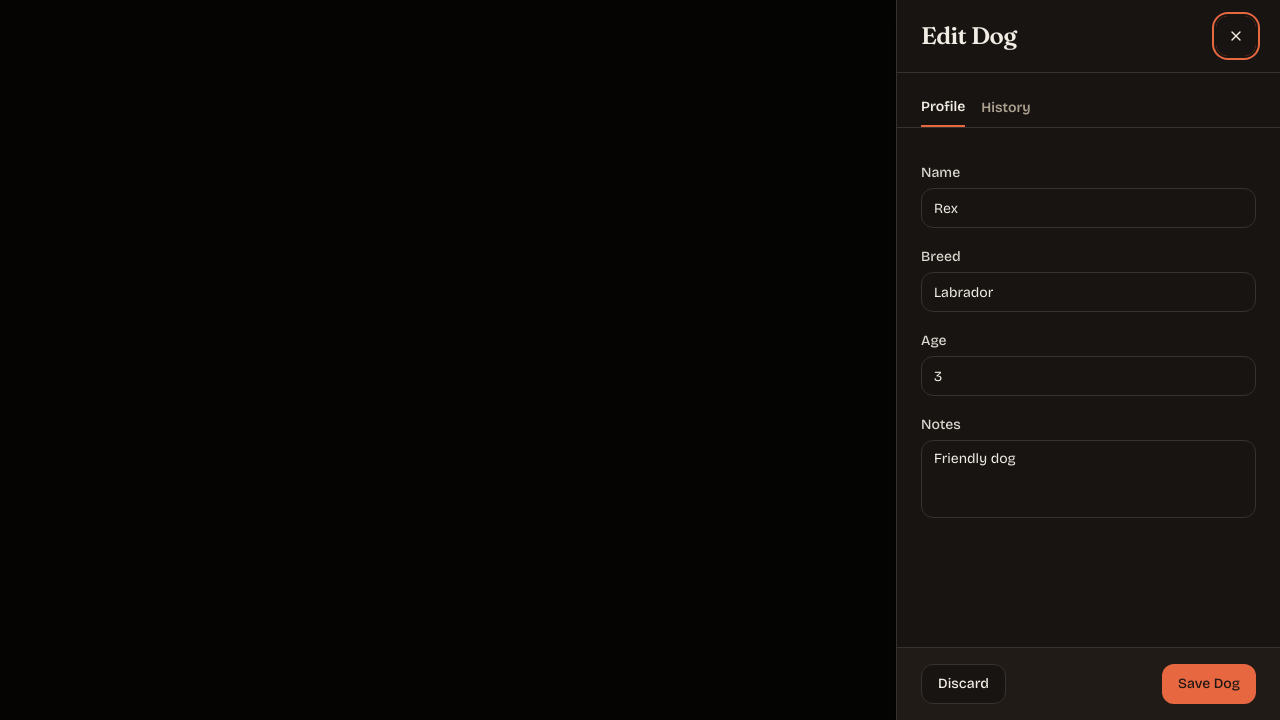
Test: DogPanel - History tab › clicking History tab shows "Log a walk for [name]" button
The width and height of the screenshot is (1280, 720).
Click the tab "History" at (1006, 108), box [981,89,1031,127]
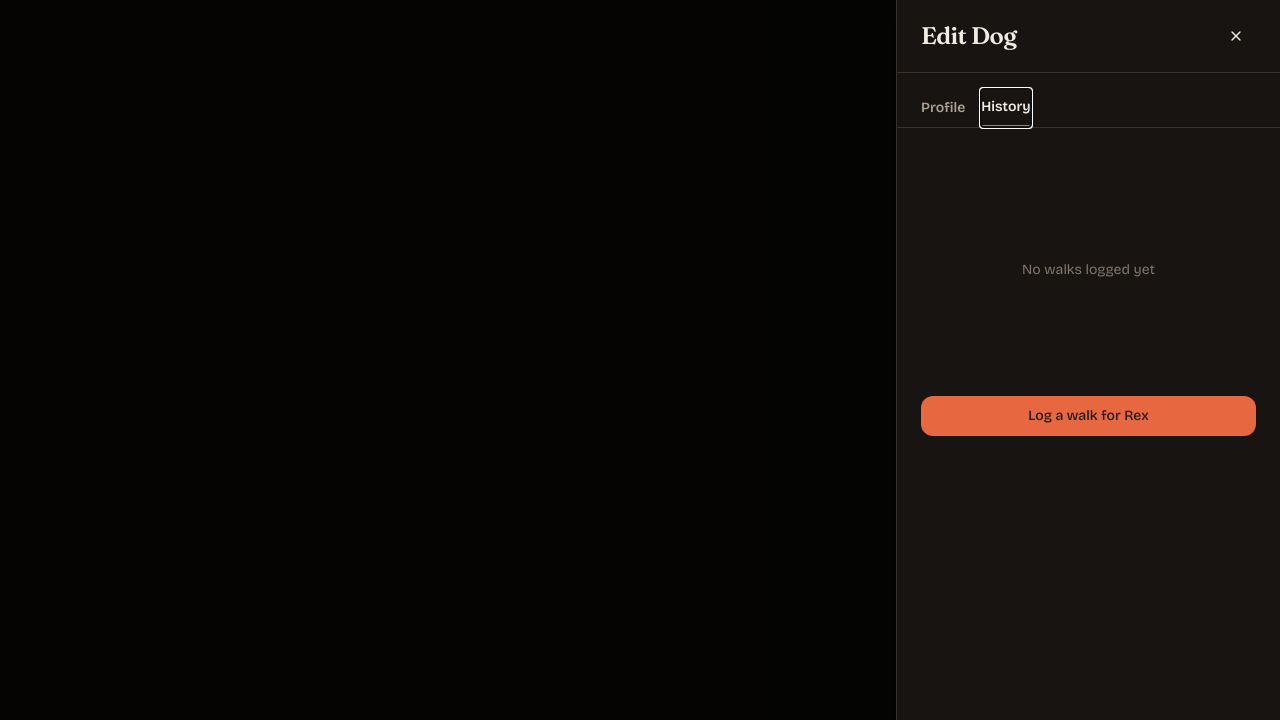
Check: the button "Log a walk for Rex" is shown, box [921,396,1256,436]
